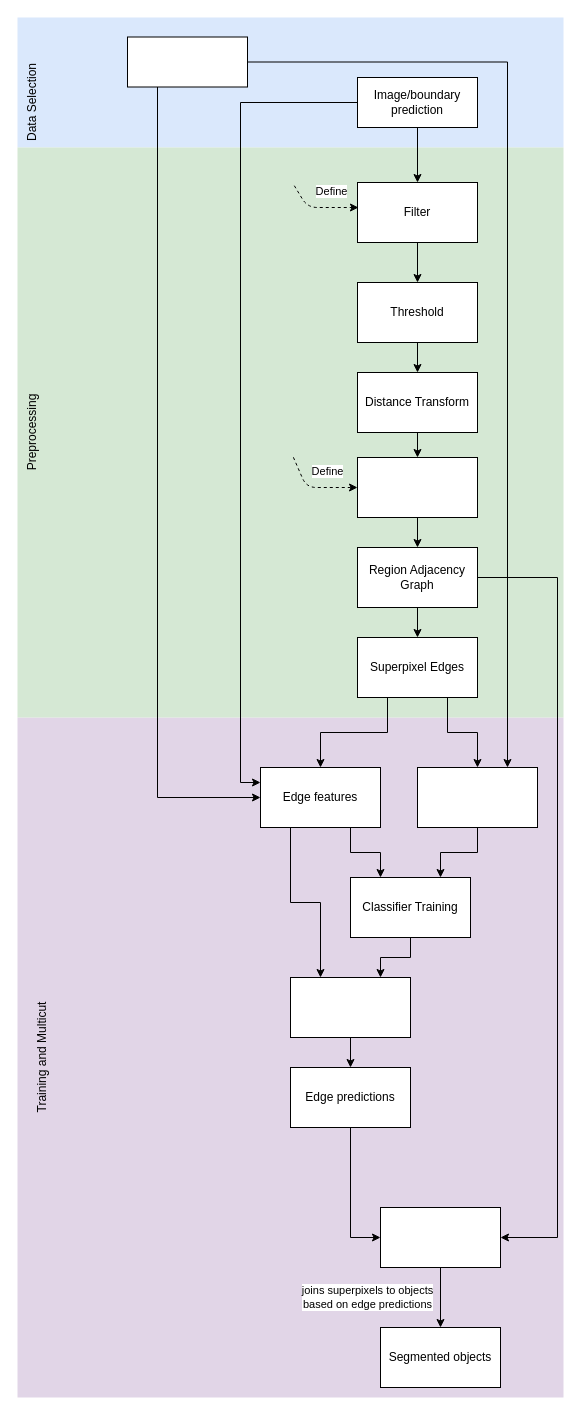
Some shapes in this 583 by 1414 pixel diagram are drawn without their labels. Here are the shapes that lost their labels. From the top down, the centre of each, then its label:
At pixel 187 61: "Image/raw data".
At pixel 417 487: "Superpixel Oversegmentation".
At pixel 477 797: "Annotations".
At pixel 350 1007: "Classifier".
At pixel 440 1237: "Multicut".
